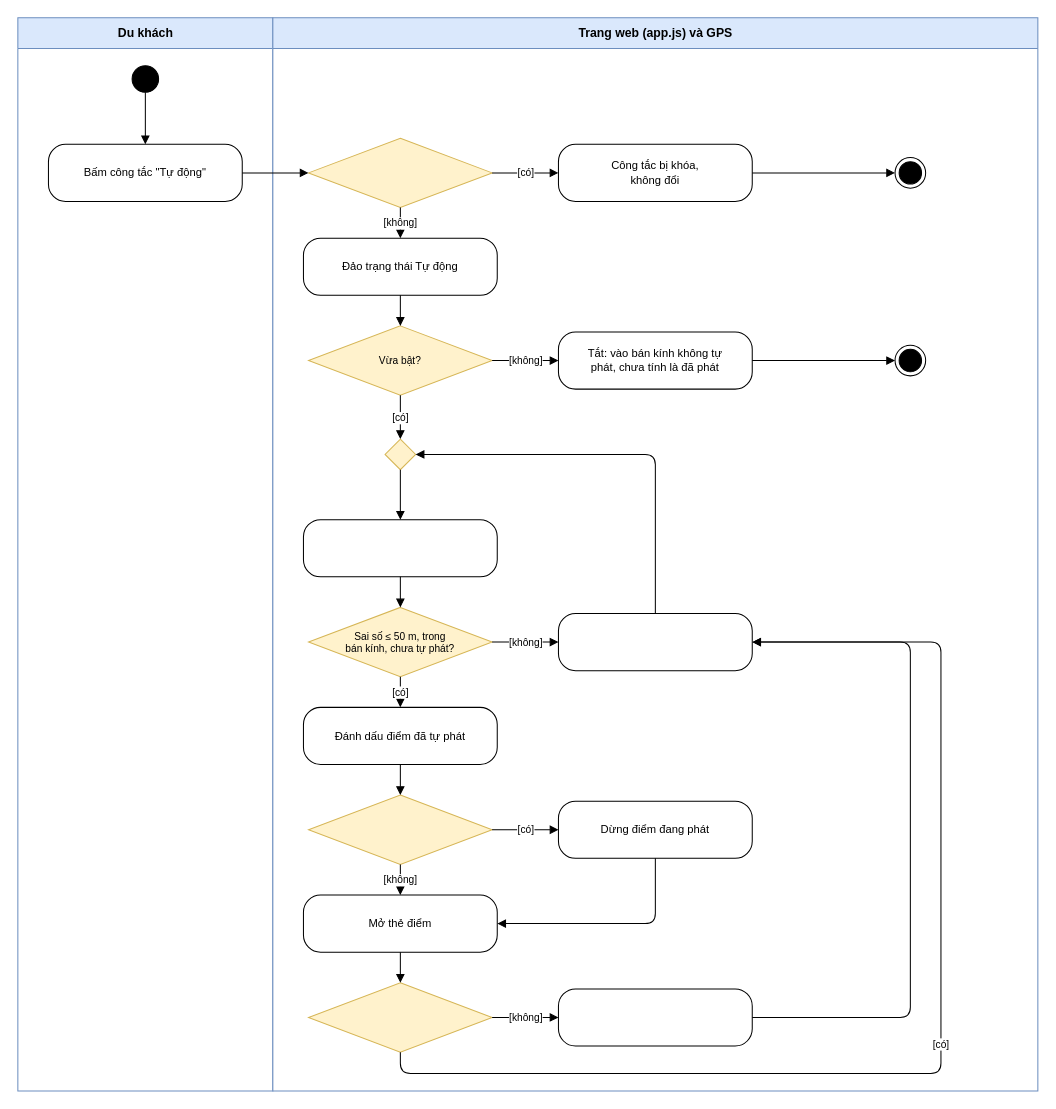
The diagram is 1056 pixels wide and 1109 high, and some of its shapes have lost their labels. The shapes that lost their labels are listed below. From the top down, each one's centre as x and y in pixels, then its label:
point (400, 172): Đã từ chối quyền vị trí?
point (399, 548): So vị trí với từng điểm (lúc bật và mỗi lần GPS cập nhật)
point (654, 642): Chờ vị trí mới
point (400, 829): Đang phát điểm khác?
point (400, 1017): Hình thức là "Đọc"?
point (654, 1017): Đọc thuyết minh (như CN4)
